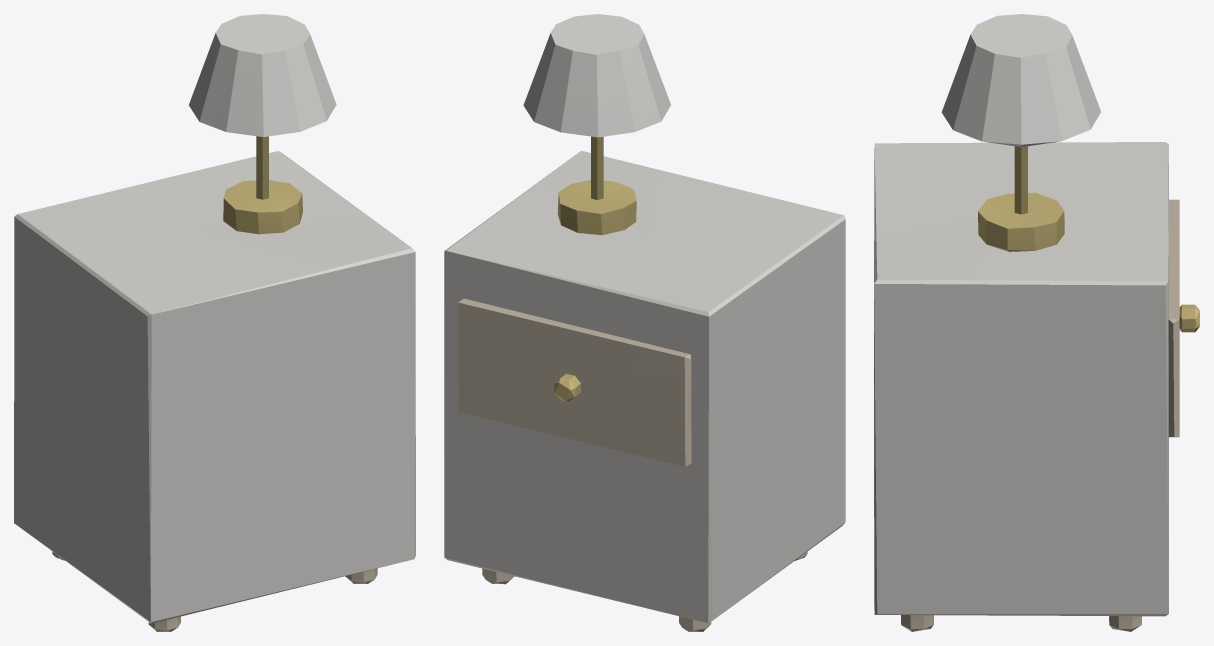
File: furn_nightstand__white_low.glb
3 views of the same model, side by side, from view 1: azimuth 30°, elevation 25°; view 2: azimuth 150°, elevation 25°; view 3: azimuth 270°, elevation 25° (orthographic). The views are drawn at different scales.
Bounding box in the file's own units: 0.45 × 0.8395 × 0.4386.
